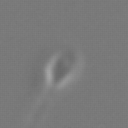normal: (21, 87, 61, 128)
